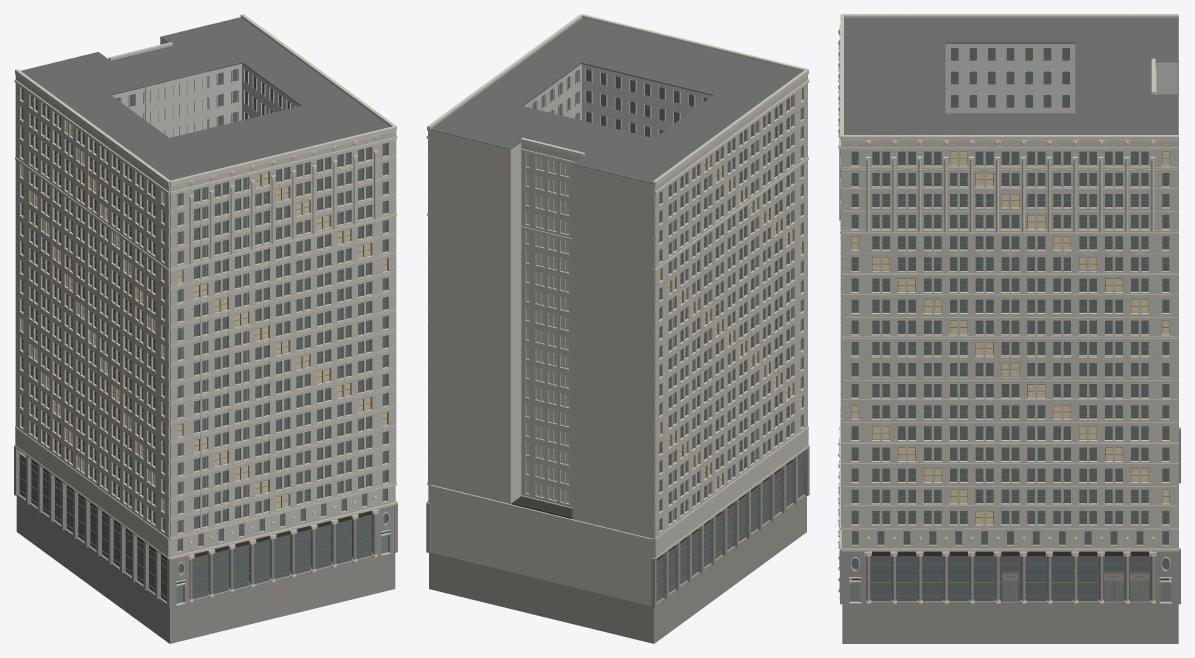
The model's file is peoples_gas.glb.
3 views of the same model, side by side, from view 1: azimuth 30°, elevation 25°; view 2: azimuth 150°, elevation 25°; view 3: azimuth 270°, elevation 25° (orthographic). The views are drawn at different scales.
Visible parts, largest first — view 1: Pale weathered terracotta masonry, Individual recessed double hung panes, Carved limestone mouldings, Dark roof and courtyard floor, Smooth grey granite Ionic base, Bronze entrance and sash, White enameled light court brick, Night occupied office panes, Deep opaque window reveals; view 2: Pale weathered terracotta masonry, Dark roof and courtyard floor, Smooth grey granite Ionic base, White enameled light court brick, Individual recessed double hung panes, Carved limestone mouldings, Bronze entrance and sash, Night occupied office panes, Deep opaque window reveals; view 3: Pale weathered terracotta masonry, Individual recessed double hung panes, Carved limestone mouldings, Dark roof and courtyard floor, Smooth grey granite Ionic base, Bronze entrance and sash, White enameled light court brick, Night occupied office panes, Clear bronze entrance glazing, Deep opaque window reveals.
Boxes of the visible parts, x1,y1,x2,y2 form: Pale weathered terracotta masonry: (15,38,396,557); Individual recessed double hung panes: (19,69,386,601); Carved limestone mouldings: (14,14,397,605); Dark roof and courtyard floor: (21,17,390,180); Smooth grey granite Ionic base: (14,445,397,643); Bronze entrance and sash: (19,88,387,598); White enameled light court brick: (43,38,299,531); Night occupied office panes: (22,121,386,510); Deep opaque window reveals: (31,143,384,590); Pale weathered terracotta masonry: (428,14,808,606); Dark roof and courtyard floor: (430,18,801,183); Smooth grey granite Ionic base: (426,446,809,643); White enameled light court brick: (511,64,801,518); Individual recessed double hung panes: (527,69,803,601); Carved limestone mouldings: (426,14,809,559); Bronze entrance and sash: (656,88,804,598); Night occupied office panes: (659,89,801,488); Deep opaque window reveals: (511,460,792,560); Pale weathered terracotta masonry: (841,14,1178,548); Individual recessed double hung panes: (851,48,1169,601); Carved limestone mouldings: (838,14,1178,603); Dark roof and courtyard floor: (844,18,1178,134); Smooth grey granite Ionic base: (839,427,1180,643); Bronze entrance and sash: (851,151,1169,601); White enameled light court brick: (851,43,1177,523); Night occupied office panes: (852,152,1168,523); Clear bronze entrance glazing: (850,580,1170,601); Deep opaque window reveals: (838,31,1169,580).
Size of the model in its own units: 52.21 by 100 by 61.11.
